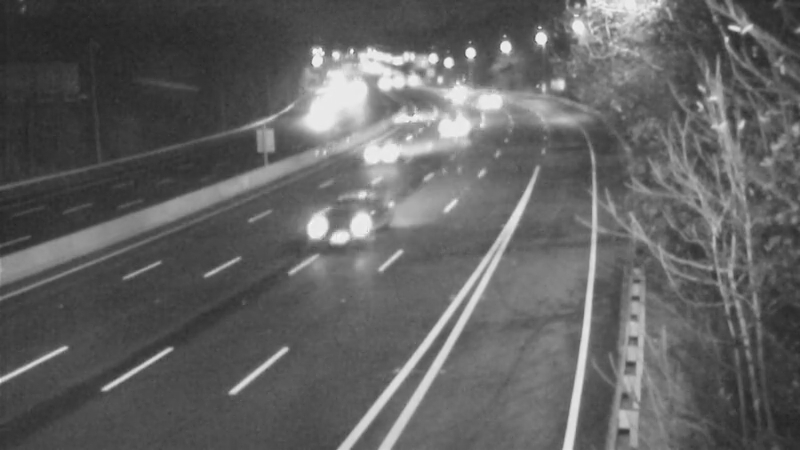vehicle: (286, 190, 366, 270), (466, 76, 516, 126), (383, 83, 433, 133), (422, 100, 472, 150), (361, 125, 411, 175), (288, 96, 338, 146)
